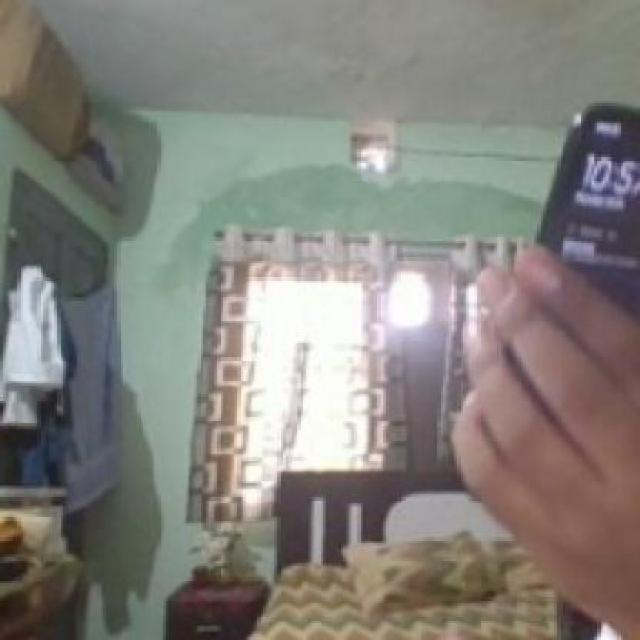Phone: (532, 98, 636, 322)
